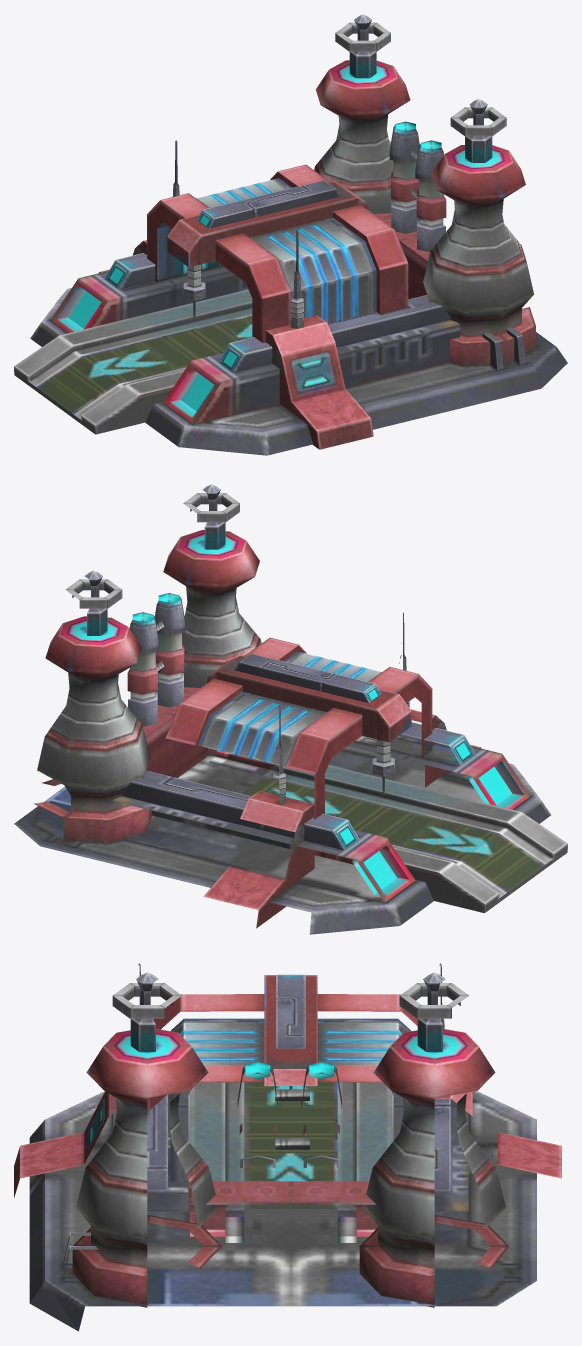
The picture shows the model from 3 angles, top to bottom: view 1: azimuth 30°, elevation 25°; view 2: azimuth 150°, elevation 25°; view 3: azimuth 270°, elevation 25°; orthographic projection. The views are drawn at different scales.
Parts seen in each view (by area): view 1: build6_3; view 2: build6_3; view 3: build6_3.
Part boxes in pixels (x1,y1,x2,y2): build6_3: [14, 14, 567, 455]; build6_3: [14, 484, 567, 934]; build6_3: [14, 963, 561, 1331].
Bounding box in the file's own units: 10.68 × 6.2 × 9.64.
Materials: 1 (1 with a texture image).
